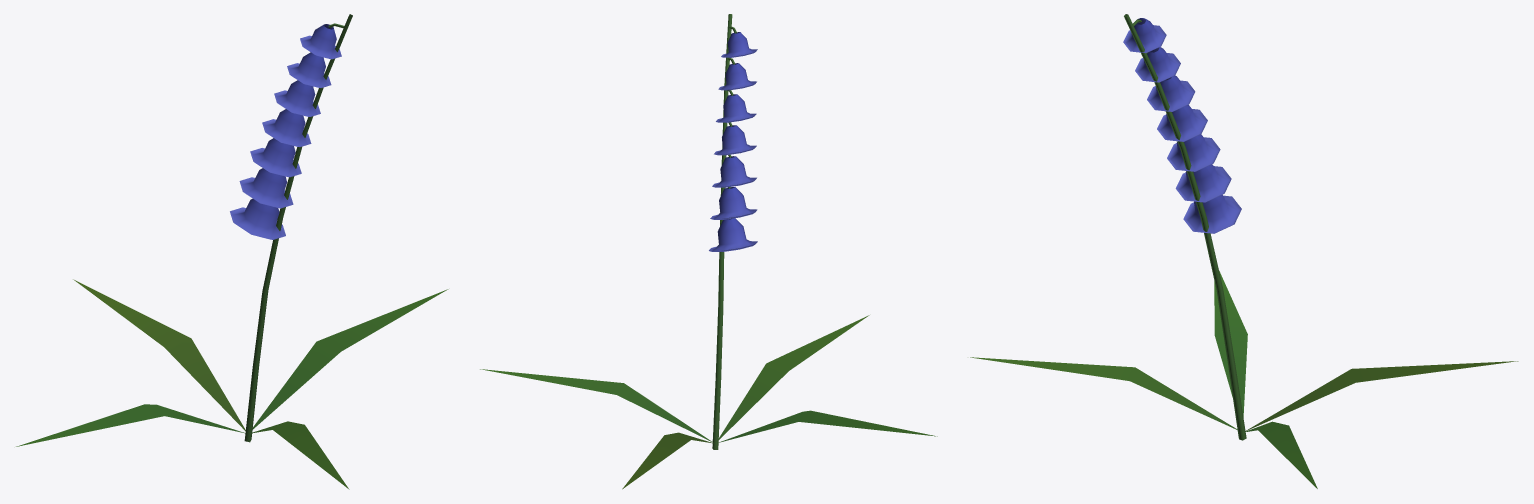
The model's file is flower-bluebell-a.lod0.glb.
3 renders of one model, left to right at view 1: azimuth 30°, elevation 25°; view 2: azimuth 150°, elevation 25°; view 3: azimuth 270°, elevation 25°, orthographic. The views are drawn at different scales.
Visible parts, largest first — view 1: flower-bluebell-a.lod0; view 2: flower-bluebell-a.lod0; view 3: flower-bluebell-a.lod0.
Part boxes in pixels (x1=…): flower-bluebell-a.lod0: x1=16, y1=14, x2=448, y2=489; flower-bluebell-a.lod0: x1=480, y1=14, x2=937, y2=489; flower-bluebell-a.lod0: x1=970, y1=14, x2=1518, y2=488.
Size of the model in its own units: 0.3939 by 0.3537 by 0.3981.
